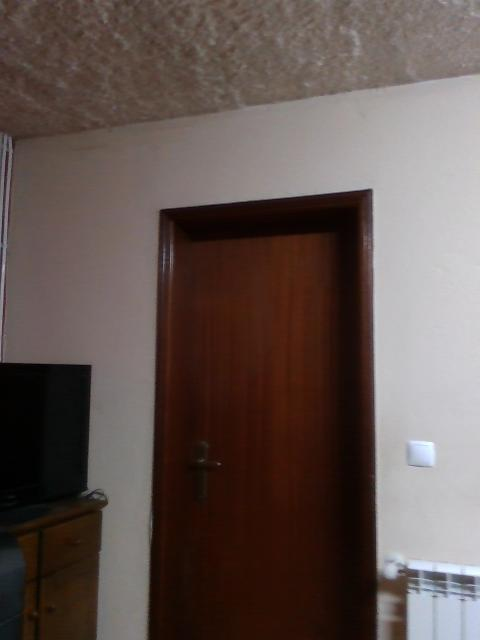door: (172, 220, 360, 640)
